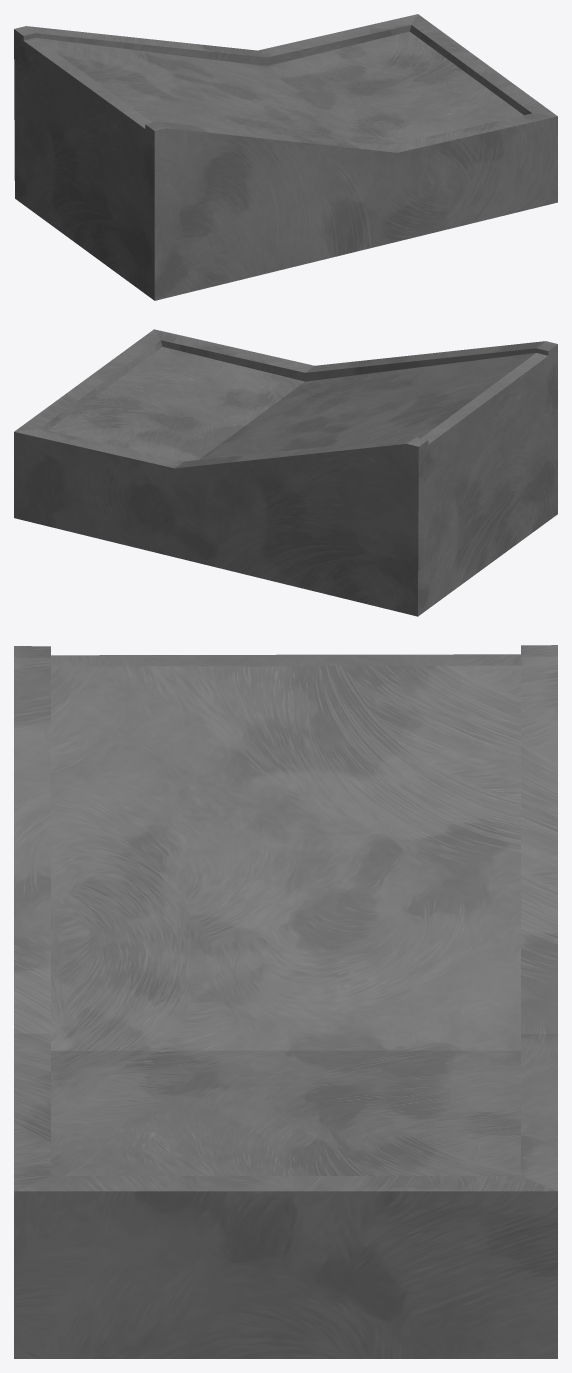
Rendered from Map_Ramp.fbx.
The picture shows the model from 3 angles, top to bottom: view 1: azimuth 30°, elevation 25°; view 2: azimuth 150°, elevation 25°; view 3: azimuth 270°, elevation 25°; orthographic projection. The views are drawn at different scales.
Parts seen in each view (by area): view 1: Ramp, RampG; view 2: Ramp, RampG; view 3: RampG, Ramp.
Part boxes in pixels (x1,y1,x2,y2): Ramp: (14, 14, 557, 300); RampG: (36, 31, 523, 145); Ramp: (14, 329, 557, 616); RampG: (48, 347, 535, 461); RampG: (51, 665, 520, 1175); Ramp: (14, 645, 557, 1358).
Bounding box in the file's own units: 652 × 262 × 391.
